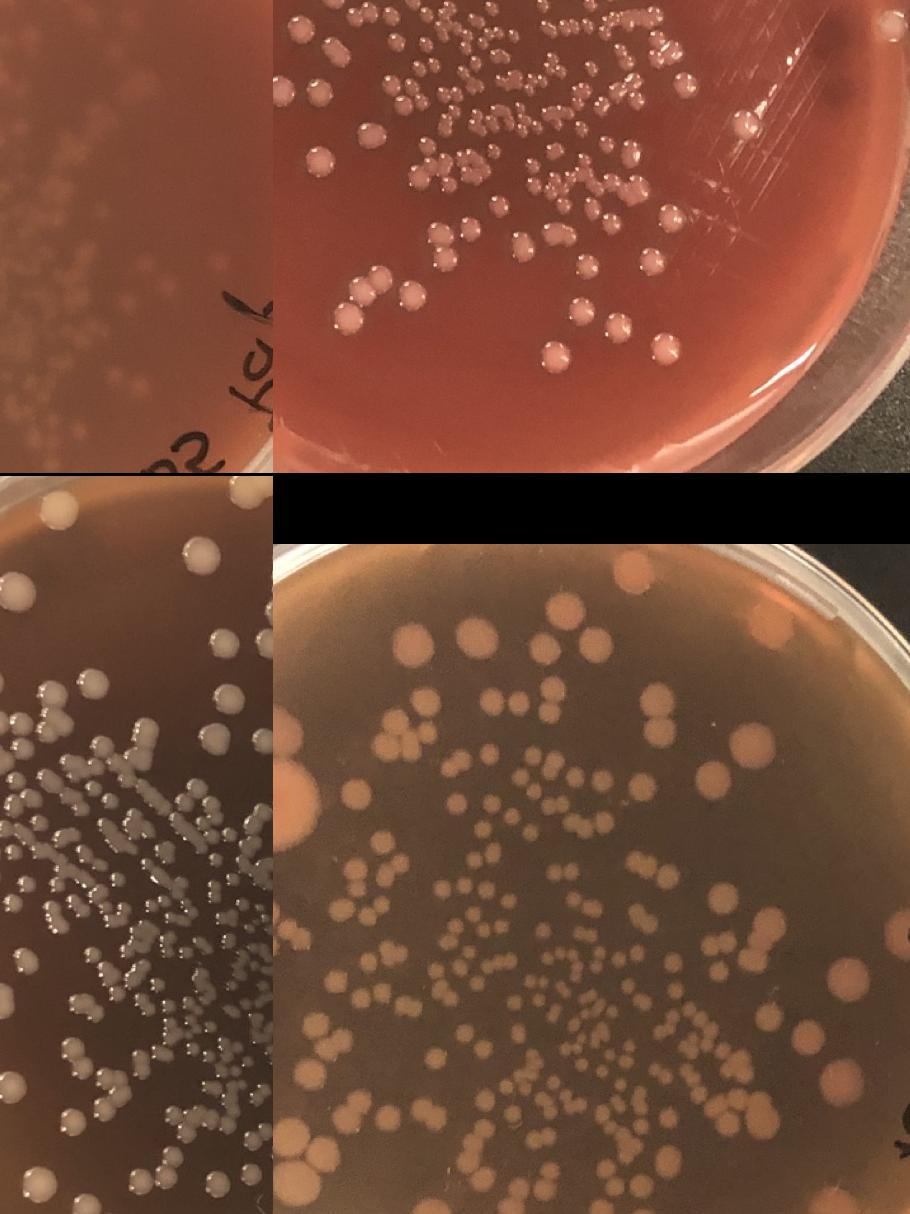assalmonicida: (175, 777, 265, 869), (0, 707, 62, 764), (86, 732, 120, 810), (183, 1014, 234, 1066), (253, 535, 273, 660), (16, 1161, 58, 1203), (38, 489, 80, 531), (180, 535, 222, 577), (60, 1033, 97, 1080), (243, 1106, 273, 1162), (227, 475, 273, 509), (0, 571, 35, 612), (0, 1066, 33, 1108), (164, 1106, 201, 1142), (71, 1191, 126, 1214), (36, 676, 70, 712), (4, 874, 36, 912), (75, 666, 110, 700), (209, 626, 244, 660), (214, 682, 247, 717), (200, 721, 232, 755), (75, 845, 110, 874), (4, 787, 42, 813), (61, 786, 90, 819), (44, 898, 68, 934), (65, 891, 93, 921), (245, 1078, 273, 1107), (14, 946, 42, 974), (60, 1108, 88, 1136), (126, 743, 154, 771), (126, 1170, 154, 1198), (205, 1170, 233, 1198), (238, 1158, 266, 1186), (125, 957, 151, 987), (249, 724, 273, 756), (98, 897, 136, 917), (136, 714, 162, 742), (134, 990, 158, 1018), (0, 842, 23, 863), (63, 823, 83, 843), (82, 944, 102, 964), (223, 869, 243, 889), (233, 894, 253, 914), (247, 1008, 267, 1028), (31, 839, 50, 859), (107, 869, 126, 889), (218, 1114, 237, 1134), (240, 1050, 259, 1070), (31, 813, 50, 832), (8, 769, 26, 789), (164, 1146, 184, 1164), (218, 930, 238, 948), (86, 1004, 104, 1022), (98, 815, 116, 833), (112, 1068, 130, 1086), (126, 806, 144, 824), (150, 1040, 168, 1058), (158, 1168, 176, 1186), (161, 996, 179, 1014), (109, 984, 126, 1002), (148, 976, 166, 993), (159, 928, 176, 945), (0, 819, 13, 839)
pddamselae: (273, 749, 325, 854), (528, 584, 588, 668), (454, 23, 522, 94), (514, 79, 595, 138), (406, 133, 476, 191), (378, 56, 442, 115), (454, 1116, 497, 1192), (510, 744, 566, 802), (727, 715, 781, 773), (816, 1052, 870, 1110), (822, 950, 876, 1008), (608, 543, 662, 598), (595, 1156, 658, 1199), (640, 682, 678, 749), (450, 614, 501, 662), (388, 620, 438, 668), (591, 71, 646, 114), (437, 904, 482, 952), (368, 824, 409, 874), (787, 1013, 830, 1059), (349, 264, 394, 306), (426, 222, 461, 274), (524, 48, 568, 88), (578, 196, 624, 234), (478, 685, 532, 717), (587, 1198, 695, 1214), (806, 1185, 864, 1214), (692, 762, 734, 800), (542, 168, 576, 214), (532, 1157, 562, 1203), (624, 768, 661, 804), (293, 1056, 329, 1092), (338, 776, 374, 812), (404, 1190, 458, 1214), (578, 626, 614, 662), (706, 880, 742, 916), (497, 1175, 530, 1214), (674, 1030, 716, 1060), (651, 1142, 684, 1180), (436, 85, 464, 129), (454, 872, 498, 900), (408, 685, 444, 719), (357, 894, 392, 928), (698, 929, 740, 957), (538, 220, 579, 248), (319, 34, 352, 68), (469, 100, 506, 130), (754, 1000, 786, 1034), (320, 963, 352, 996), (372, 1102, 404, 1134), (536, 674, 566, 707), (370, 730, 399, 763), (648, 41, 684, 67), (610, 942, 646, 968), (544, 860, 581, 883), (603, 313, 631, 342), (288, 15, 316, 43), (306, 148, 334, 176), (307, 78, 335, 106), (334, 304, 362, 332), (398, 283, 426, 311), (568, 298, 596, 326), (574, 253, 602, 281), (618, 140, 646, 168), (638, 249, 666, 277), (732, 111, 760, 139), (878, 12, 906, 40), (422, 1044, 450, 1072), (655, 862, 681, 892), (506, 235, 533, 263), (543, 344, 570, 372), (652, 334, 679, 362), (657, 205, 684, 233), (581, 0, 639, 13), (346, 4, 378, 27), (360, 122, 386, 150), (471, 1084, 497, 1112), (590, 765, 616, 793), (404, 0, 435, 23), (442, 790, 468, 816), (648, 1060, 674, 1086), (656, 1104, 682, 1130), (410, 1095, 434, 1123), (537, 17, 572, 36), (588, 944, 608, 976), (612, 41, 634, 70), (343, 856, 369, 880), (273, 78, 295, 106), (540, 944, 568, 966), (661, 950, 684, 976), (674, 76, 698, 100), (479, 791, 503, 815), (706, 959, 730, 983), (520, 972, 551, 990), (386, 30, 410, 53), (542, 139, 565, 163), (349, 986, 372, 1010), (637, 911, 660, 935), (571, 923, 600, 942), (488, 194, 510, 218), (452, 1020, 476, 1042), (524, 1128, 546, 1152), (473, 1037, 496, 1059), (462, 850, 484, 872), (666, 978, 688, 1000), (358, 952, 378, 974), (480, 743, 500, 765), (492, 915, 512, 937), (498, 890, 518, 912), (532, 918, 552, 940), (564, 765, 584, 787), (438, 174, 458, 194), (426, 959, 446, 979), (432, 878, 450, 900), (474, 818, 492, 840), (564, 888, 582, 910), (383, 6, 403, 25), (521, 177, 541, 196), (523, 154, 542, 174), (598, 135, 616, 155), (521, 823, 541, 841), (618, 977, 636, 996), (418, 37, 436, 55), (485, 142, 503, 160), (582, 58, 600, 76), (530, 990, 548, 1008), (553, 794, 571, 812), (482, 0, 501, 17), (578, 16, 595, 34), (648, 5, 666, 22), (460, 942, 477, 960), (469, 974, 486, 992), (497, 1078, 514, 1096), (503, 808, 521, 825), (506, 993, 524, 1010), (530, 0, 550, 15), (603, 173, 620, 190), (648, 30, 666, 46), (574, 118, 588, 138), (461, 222, 478, 238), (273, 929, 281, 961), (575, 152, 592, 167), (318, 0, 346, 9), (492, 71, 506, 89), (432, 18, 447, 34), (575, 1057, 589, 1073), (595, 1062, 609, 1078), (603, 1046, 617, 1062), (606, 1004, 620, 1020), (614, 1076, 628, 1092), (624, 1038, 638, 1054), (546, 1074, 560, 1088), (570, 1041, 584, 1055), (514, 100, 528, 113)
pdpiscicida: (214, 254, 232, 270), (107, 368, 124, 384), (119, 293, 136, 309), (130, 378, 147, 394), (160, 278, 176, 294), (44, 458, 61, 473), (49, 412, 64, 428), (141, 255, 156, 271), (72, 423, 86, 439)
